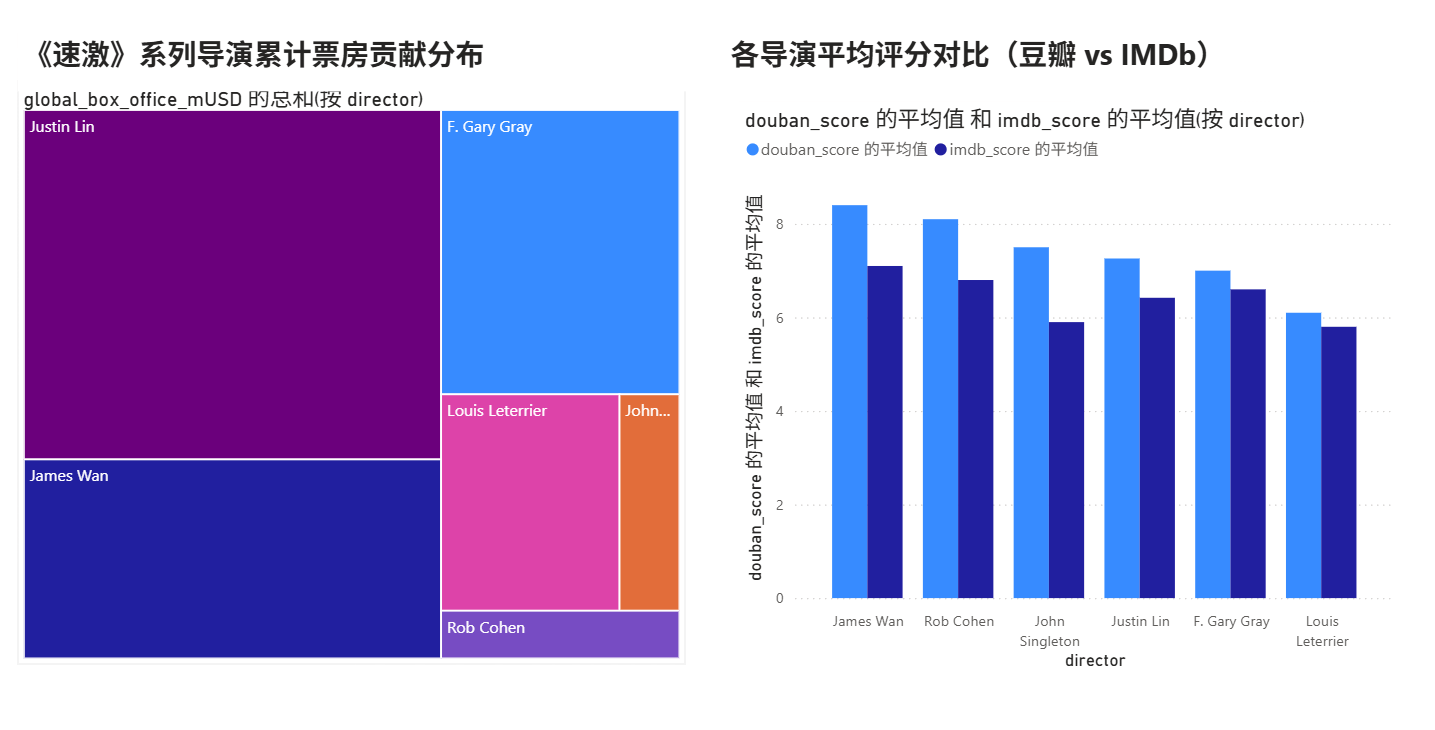

The page's visual inventory and layout, read from the dashboard file:
{"tool":"powerbi","page":{"name":"第 4 页","canvas":[1280,720],"ordinal":3},"visuals":[{"type":"treemap","fields":{"Group":["fast dim_cast_crew.director"],"Values":["Sum(fast dim_movies.global_box_office_mUSD)"]},"box":[83.8,86.2,556.2,486.2],"z":0},{"type":"textbox","box":[83.8,40,1133.8,55],"z":1000},{"type":"clusteredColumnChart","fields":{"Category":["fast dim_cast_crew.director"],"Y":["Avg(fast fact_social_reviews.douban_score)","Avg(fast fact_social_reviews.imdb_score)"]},"box":[685,103.8,551.2,477.5],"z":2000}]}

Visuals, with their boxes on the page's 1280x720 design canvas (x1, y1, x2, y2). These are canvas units, not pixel positions in the 1435x730 screenshot, which may show the page scaled, cropped or inside an application window:
treemap - fast dim_cast_crew.director x Sum(fast dim_movies.global_box_office_mUSD): [left=84, top=86, right=640, bottom=572]
textbox: [left=84, top=40, right=1218, bottom=95]
clusteredColumnChart - fast dim_cast_crew.director x Avg(fast fact_social_reviews.douban_score): [left=685, top=104, right=1236, bottom=581]
